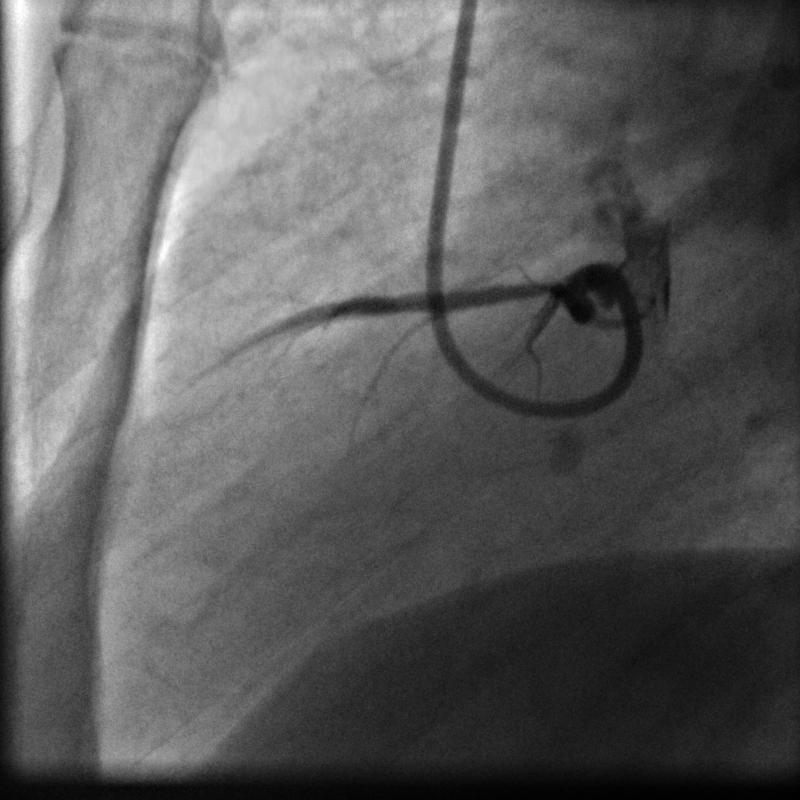Stenosis: (377, 288, 409, 314)
